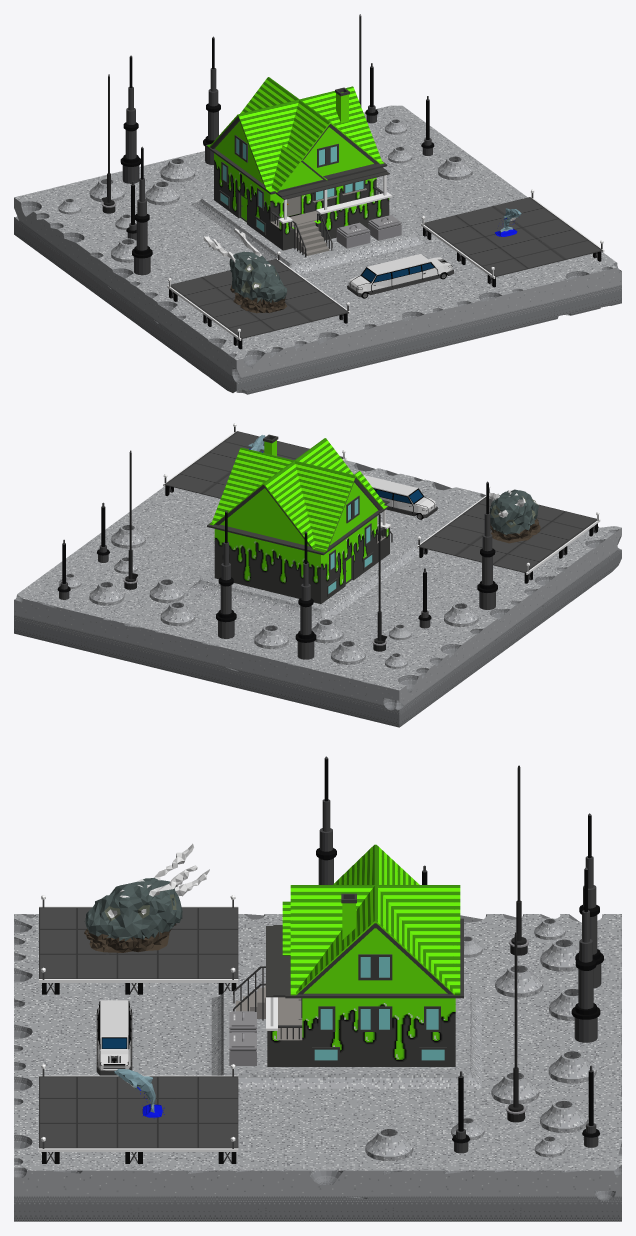
The picture shows the model from 3 angles, top to bottom: view 1: azimuth 30°, elevation 25°; view 2: azimuth 150°, elevation 25°; view 3: azimuth 270°, elevation 25°; orthographic projection. The views are drawn at different scales.
Parts seen in each view (by area): view 1: Cube.027, Cube.754, Cube.026, Cube.025, Cube.028, OBJRANDOM_METEORITE, VEHICLES_LIMOUSINE, Cylinder.020, Cylinder.021, Cylinder.017, Cube.029, Cube.030 (+4 smaller); view 2: Cube.027, Cube.754, Cube.025, Cube.028, Cube.026, OBJRANDOM_METEORITE, VEHICLES_LIMOUSINE, Cylinder.020, Cylinder.021, Cylinder.017, Cylinder.031, Cylinder.028 (+8 smaller); view 3: Cube.027, Cube.754, Cube.026, Cube.025, Cube.028, OBJRANDOM_METEORITE, VEHICLES_LIMOUSINE, Cylinder.017, Cylinder.020, Cylinder.021, Cylinder.033, Cylinder.031 (+11 smaller).
Part boxes in pixels (<box>): Cube.027: <box>14,105,621,394</box>; Cube.754: <box>205,77,392,257</box>; Cube.026: <box>421,189,604,287</box>; Cube.025: <box>167,251,350,349</box>; Cube.028: <box>191,195,424,274</box>; OBJRANDOM_METEORITE: <box>203,228,287,313</box>; VEHICLES_LIMOUSINE: <box>347,254,453,298</box>; Cylinder.020: <box>120,55,140,183</box>; Cylinder.021: <box>132,146,152,275</box>; Cylinder.017: <box>203,36,220,164</box>; Cube.029: <box>336,222,370,248</box>; Cube.030: <box>368,215,401,240</box>; Cube.027: <box>14,460,621,727</box>; Cube.754: <box>207,434,392,603</box>; Cube.025: <box>417,485,600,583</box>; Cube.028: <box>190,538,419,620</box>; Cube.026: <box>163,423,346,498</box>; OBJRANDOM_METEORITE: <box>489,489,540,543</box>; VEHICLES_LIMOUSINE: <box>363,475,437,519</box>; Cylinder.020: <box>295,531,316,659</box>; Cylinder.021: <box>477,481,497,609</box>; Cylinder.017: <box>216,510,236,638</box>; Cylinder.031: <box>89,581,124,605</box>; Cylinder.028: <box>331,640,365,664</box>; Cube.027: <box>14,914,621,1221</box>; Cube.754: <box>233,844,463,1066</box>; Cube.026: <box>39,1064,238,1163</box>; Cube.025: <box>39,895,238,994</box>; Cube.028: <box>211,991,481,1088</box>; OBJRANDOM_METEORITE: <box>84,843,209,952</box>; VEHICLES_LIMOUSINE: <box>96,1000,132,1075</box>; Cylinder.017: <box>571,867,600,1042</box>; Cylinder.020: <box>575,813,603,988</box>; Cylinder.021: <box>316,756,336,884</box>; Cylinder.033: <box>365,1128,413,1160</box>; Cylinder.031: <box>540,1100,587,1132</box>.
Size of the model in its own units: 4000 by 1951 by 4000.
35 materials, 5 textured.
